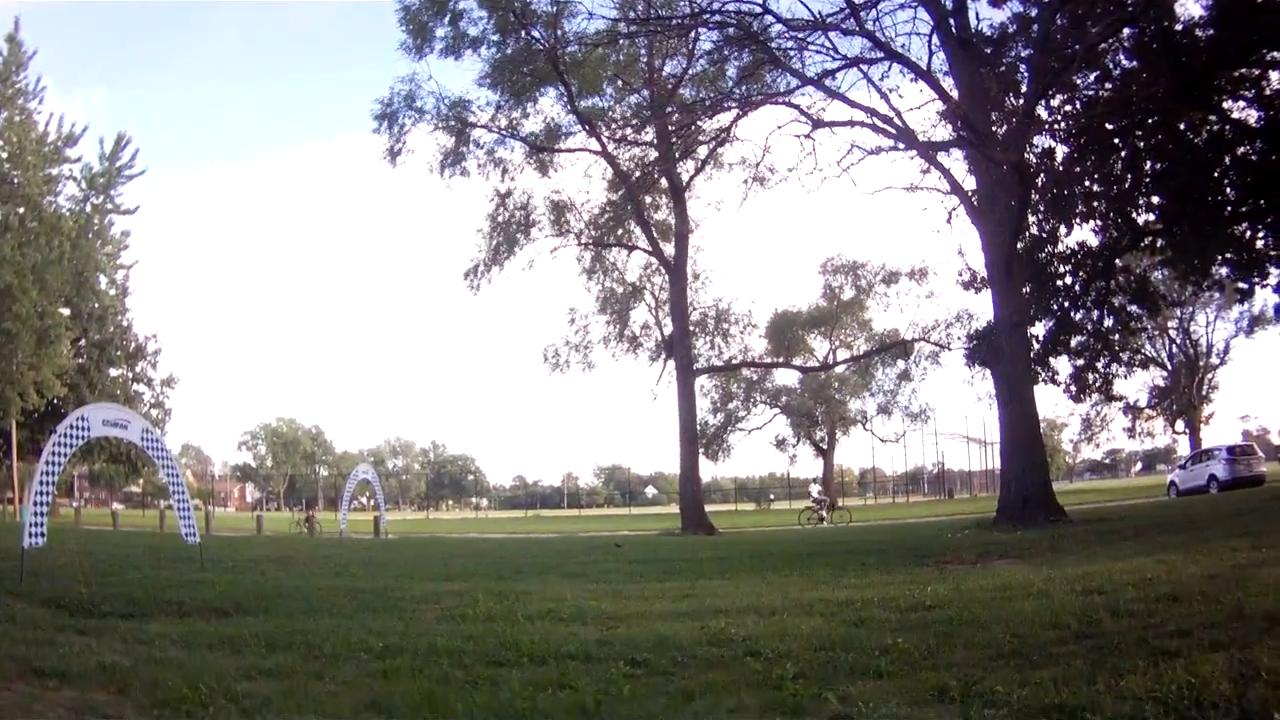gate: (22, 400, 197, 551)
